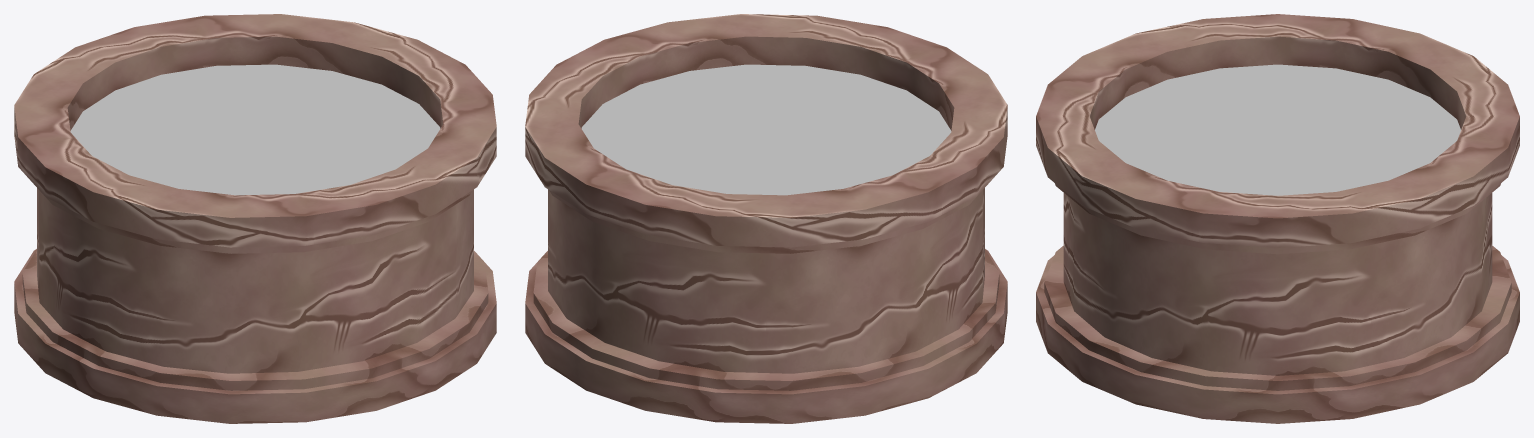
File: FloatingPlatform2.fbx
3 views of the same model, side by side, from view 1: azimuth 30°, elevation 25°; view 2: azimuth 150°, elevation 25°; view 3: azimuth 270°, elevation 25° (orthographic).
Visible parts, largest first — view 1: FloatingPlatform; view 2: FloatingPlatform; view 3: FloatingPlatform.
Part boxes in pixels (box(x1,y1,x2,y2)): FloatingPlatform: box(14, 14, 496, 423); FloatingPlatform: box(525, 14, 1007, 423); FloatingPlatform: box(1036, 14, 1519, 423).
Size of the model in its own units: 11.1 by 5.2 by 11.1.
